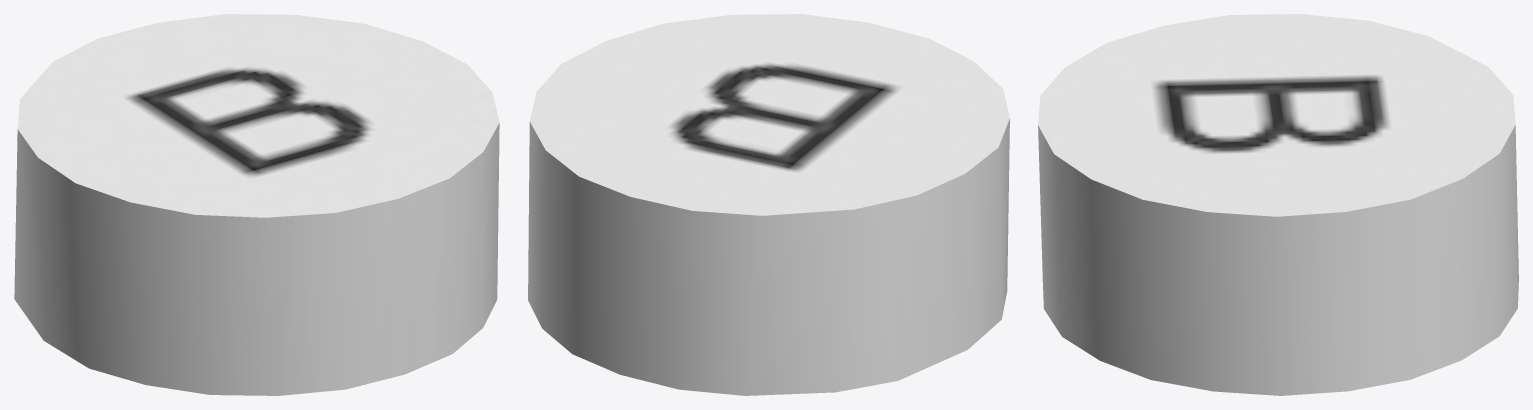
3 views of the same model, side by side, from view 1: azimuth 30°, elevation 25°; view 2: azimuth 150°, elevation 25°; view 3: azimuth 270°, elevation 25° (orthographic).
Bounding box in the file's own units: 0.00919 × 0.0038 × 0.00921.
Materials: 1 (1 with a texture image).
